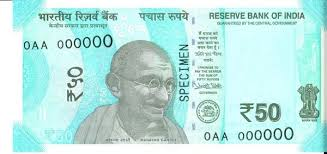fifty: (22, 25, 301, 129)
